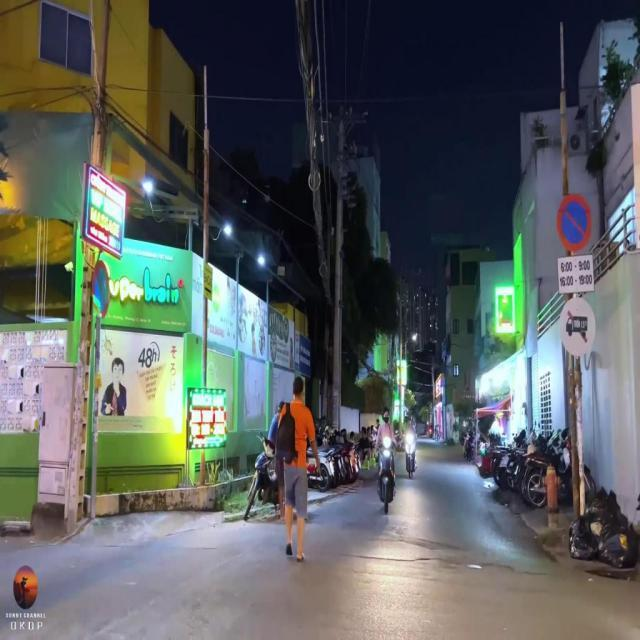106-cam-oto-tai: (558, 296, 594, 356)
131a-cam-do-xe: (558, 193, 592, 253), (89, 258, 111, 320)
